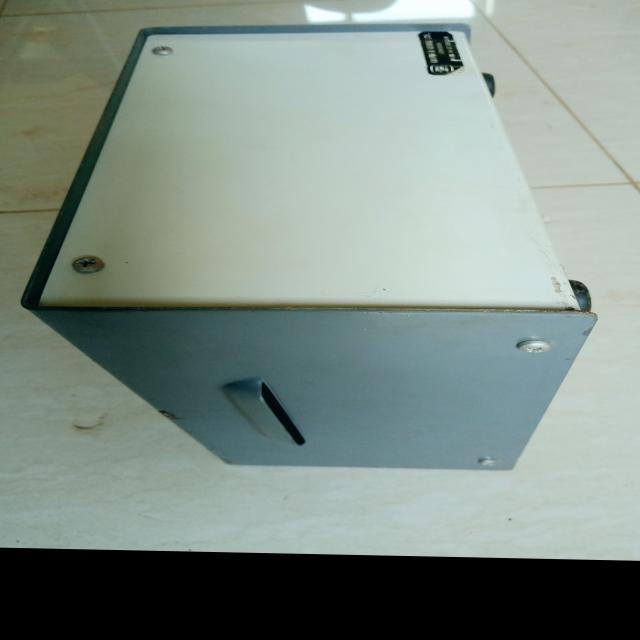Smoothing Unit: (0, 2, 617, 505)
